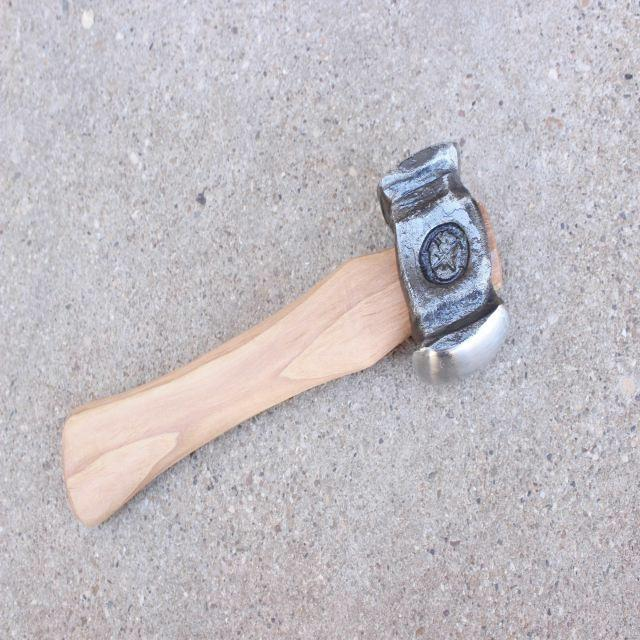hammer: (54, 135, 516, 536)
